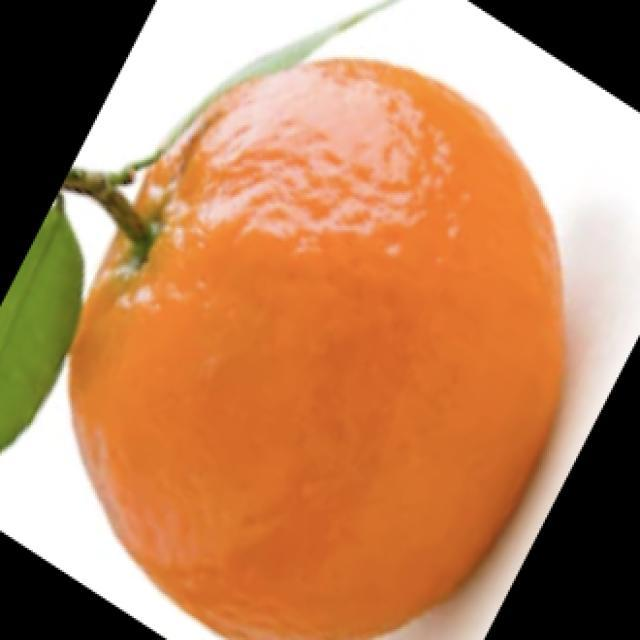matang: (70, 60, 562, 639)
